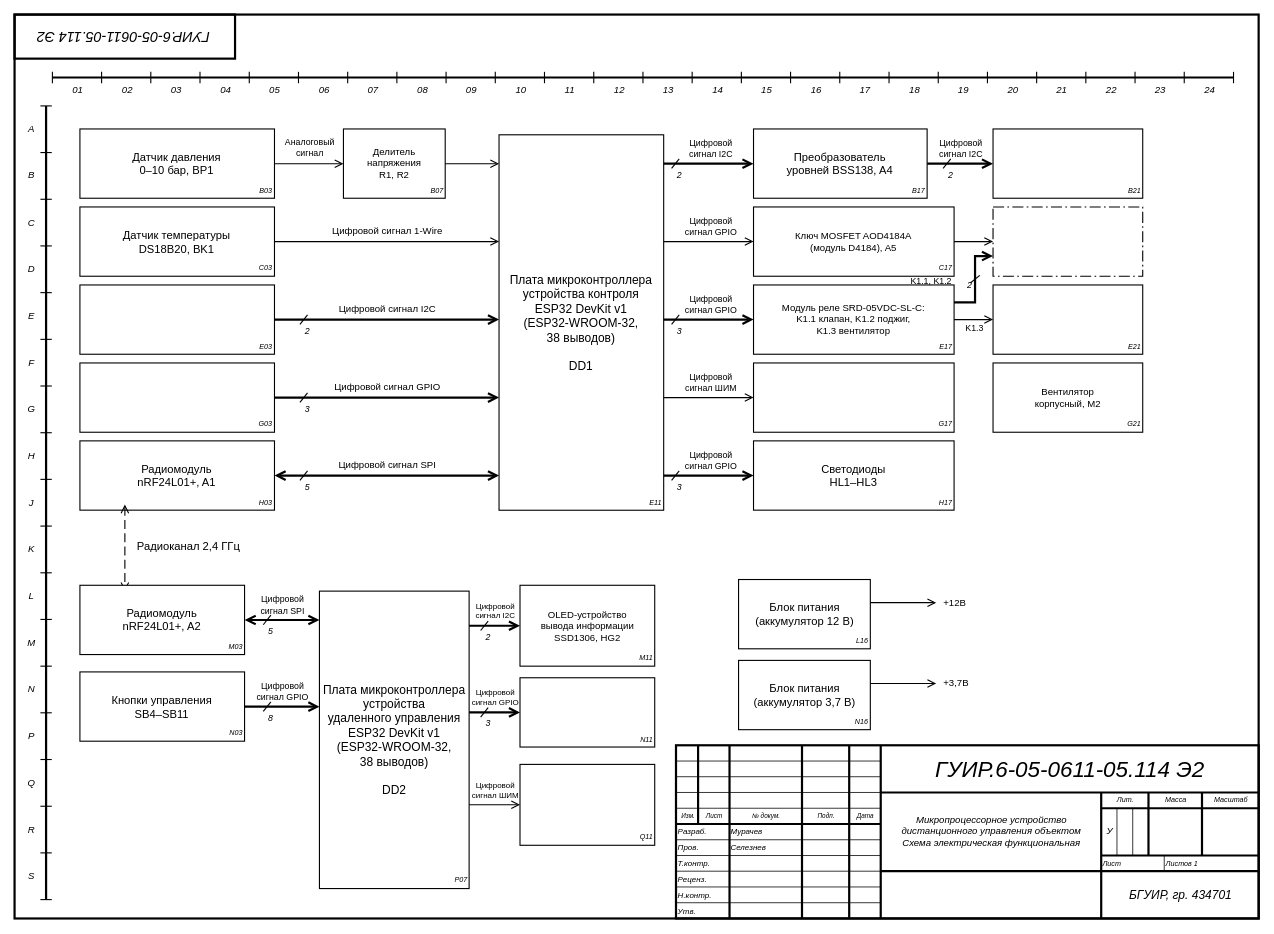
Some shapes in this 1274 by 934 pixel diagram are drawn without their labels. The box of each missing label's shape, as (x1, y1, x2, y2) in pixels:
LCD2004 с PCF8574, HG1: (992, 128, 1143, 198)
Вентилятор выводной, M1: (992, 284, 1143, 354)
Датчик наклона GY-521 (MPU-6050), A3: (79, 284, 275, 354)
Звуковой излучатель HA1: (753, 362, 954, 432)
Звуковой излучатель HA2: (519, 763, 655, 845)
Кнопки управления SB1–SB3: (79, 362, 275, 432)
Светодиоды HL4–HL6: (519, 677, 655, 747)
Электролизер, клапан, поджиг (объект управления): (992, 206, 1143, 276)
